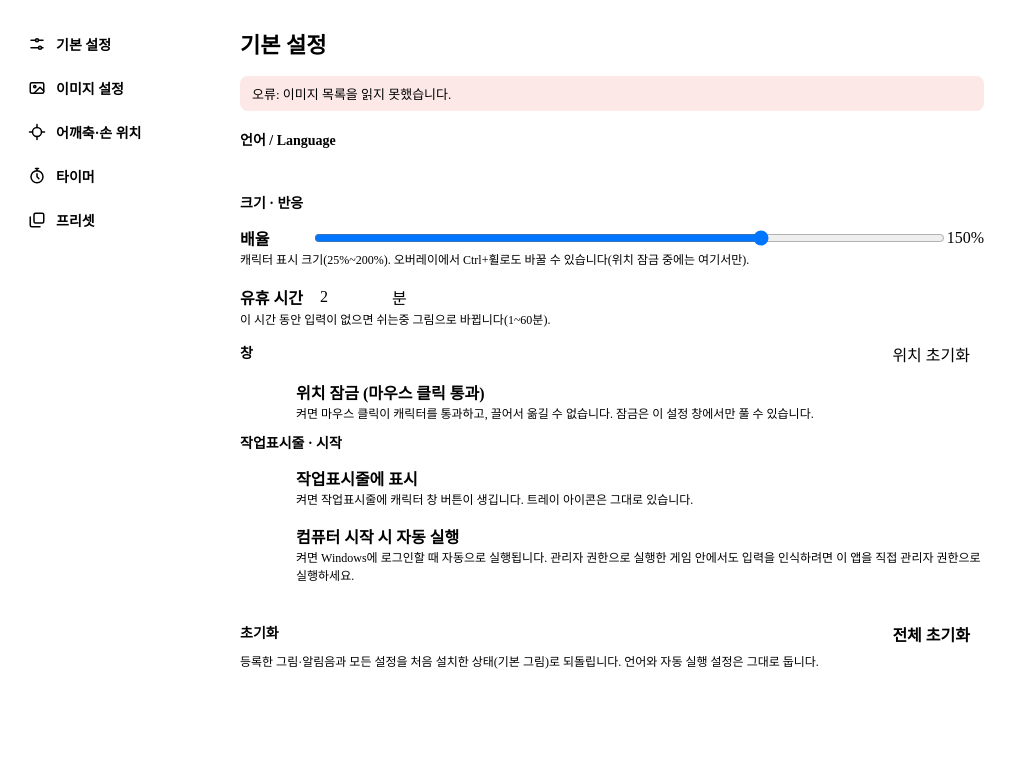
SettingsApp — 창 열기·탭 (R-01·R-19·R-20) › TC-034 (CR-039 개정): get_asset_manifest 실패 → 재시도 3회 뒤 오류 줄, manifest 는 빈 초기값(미리보기 빈 상태 문구)
Click the tab "어깨축·손 위치": (108, 132) [16,112,200,152]
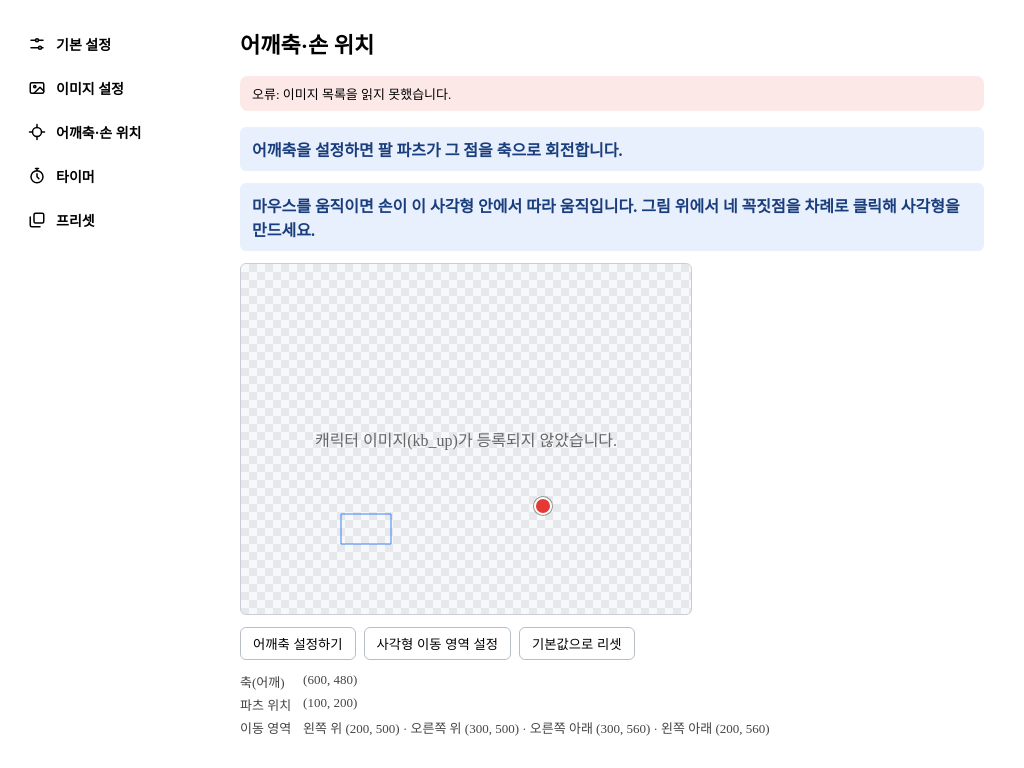
Now the text "캐릭터 이미지(kb_up)가 등록되지 않았습니다." is shown, box [315,432,617,449]
Now the picture named "축(어깨) (600, 480)" is shown, box [534,497,552,515]
